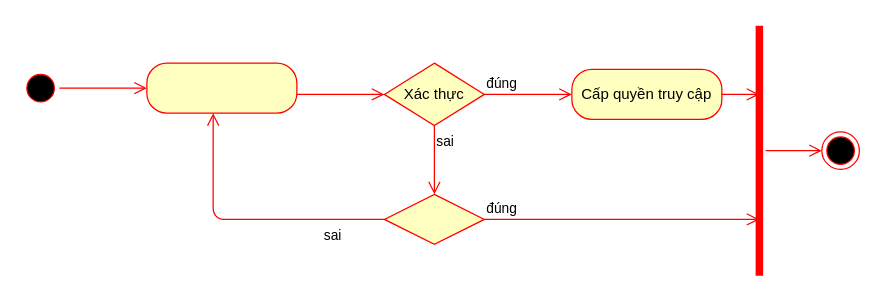
Image size: 881x300. Some labels were removed from this diagram. Here are the shapes that lost their labels. From the top down, the centre of each, then its label:
(x=221, y=87): Nhập thông tin
(x=433, y=218): Nhập lại
